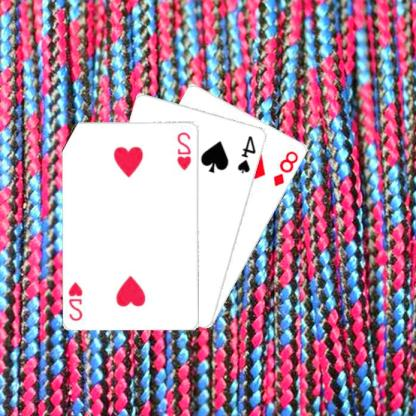2H: (176, 129, 195, 171), (68, 279, 86, 322)
4S: (236, 132, 260, 174)
8D: (272, 148, 302, 188)
